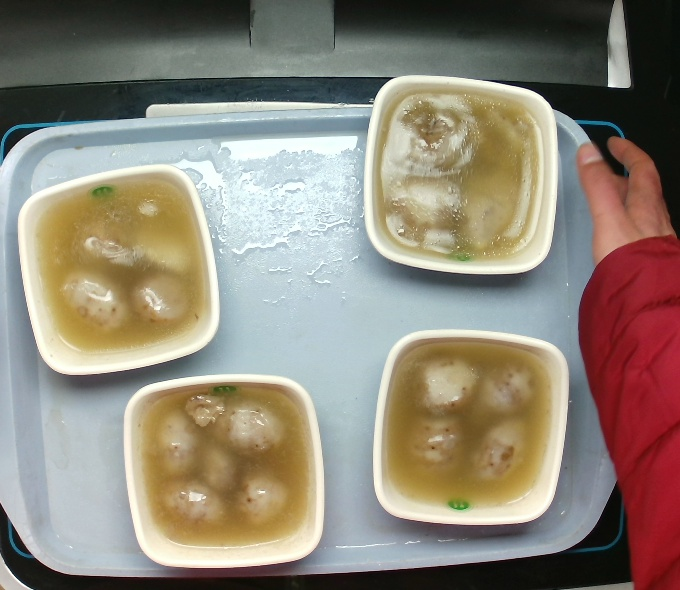wcq-YuTouTang: (30, 175, 209, 355), (372, 88, 551, 265), (381, 338, 557, 512), (137, 382, 315, 551)
